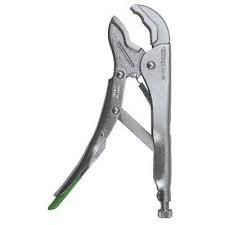pliers: (46, 2, 173, 218)
